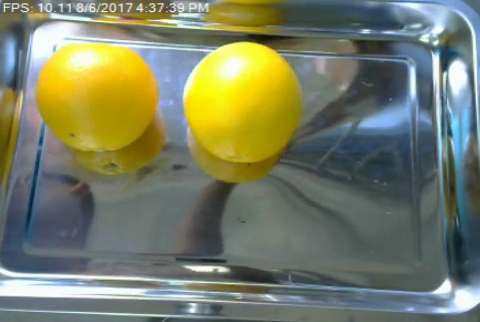Orange: (179, 39, 301, 162), (37, 44, 157, 150)
